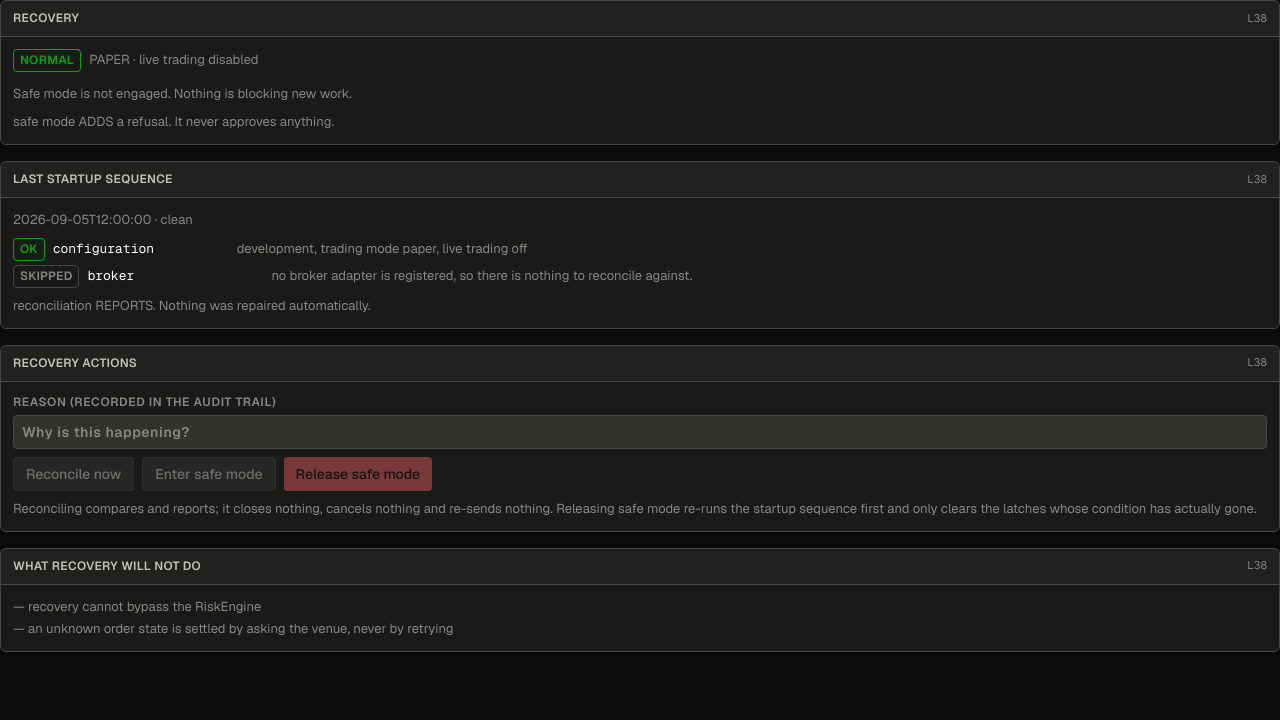
Test case: recovery actions › require a reason of real length
Expected: the button "Reconcile now" is disabled, [13,457,134,491]
Type "short" into the field labelled "Reason". click: [640, 432]
box: [13,415,1267,449]
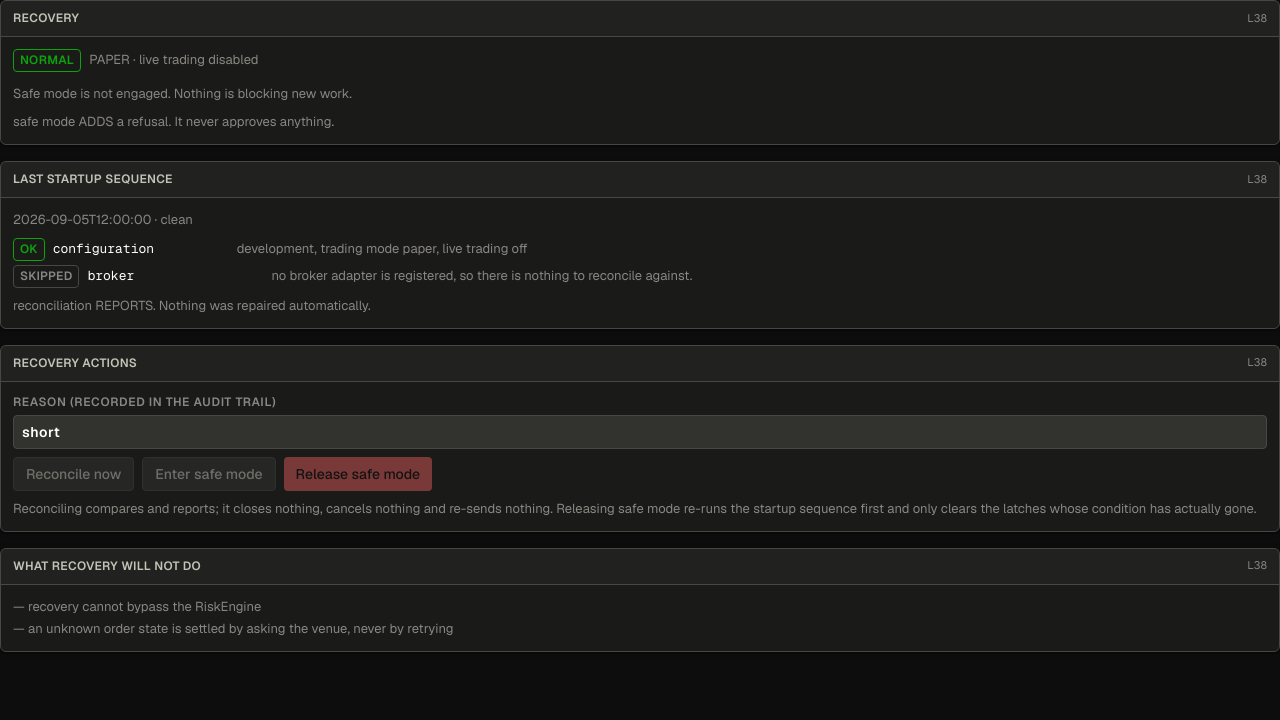
Expected: the button "Reconcile now" is disabled, [13,457,134,491]
Replace the text in the field labelled "Reason" with "checking after a restart". click: [640, 432]
box: [13,415,1267,449]
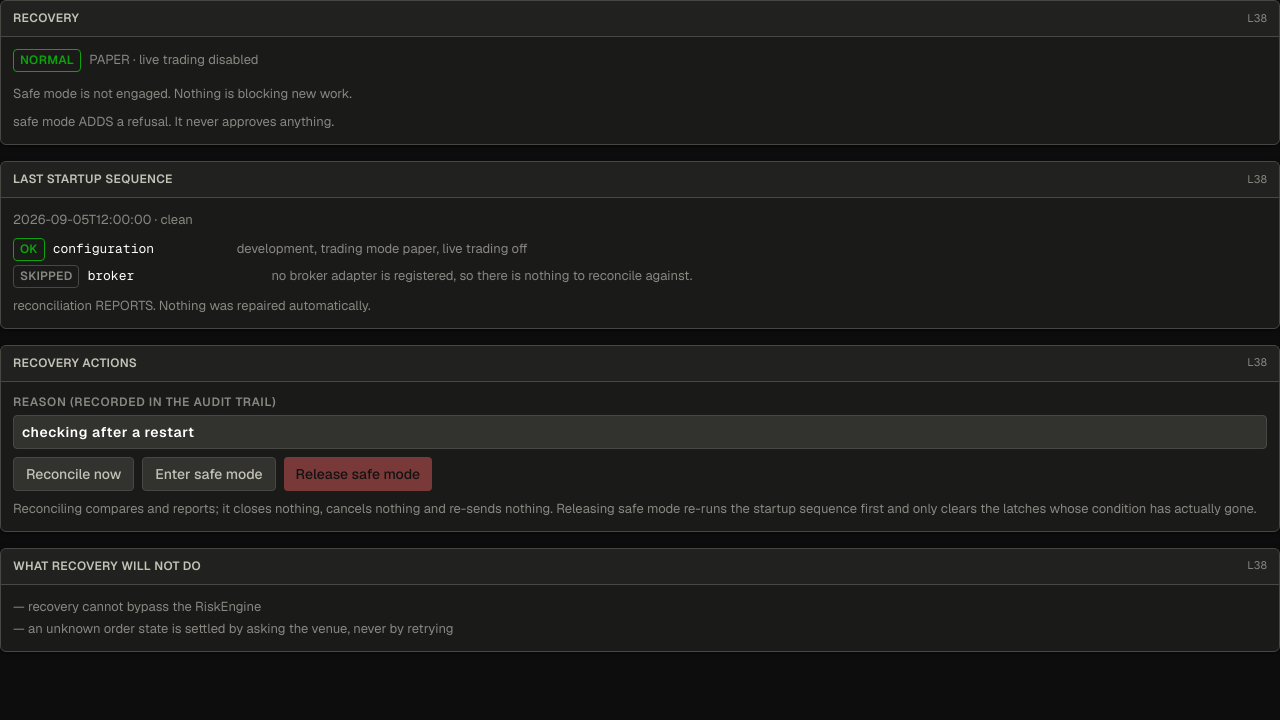
Expected: the button "Reconcile now" is enabled, [13,457,134,491]
